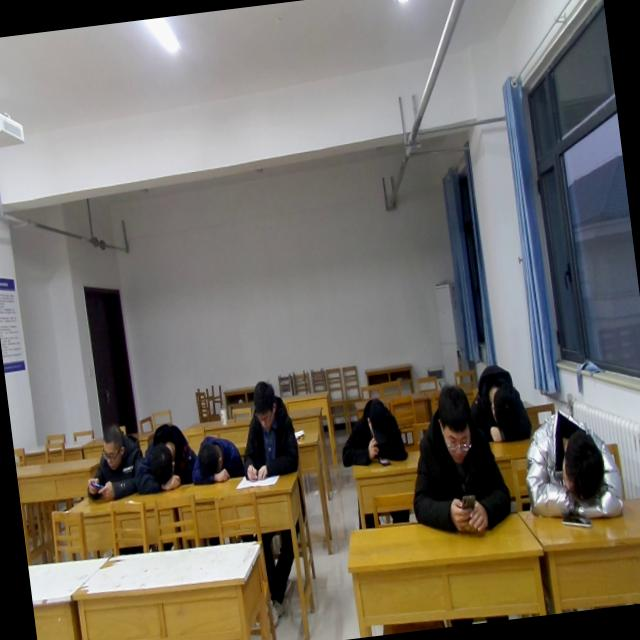bow: (515, 399, 629, 531), (75, 418, 149, 504), (465, 357, 534, 448), (128, 416, 202, 496), (333, 395, 408, 473), (187, 429, 250, 487)
down: (430, 378, 478, 462), (248, 374, 280, 434), (96, 420, 128, 470), (362, 396, 396, 442)
sit: (398, 378, 516, 542), (233, 374, 303, 483)
